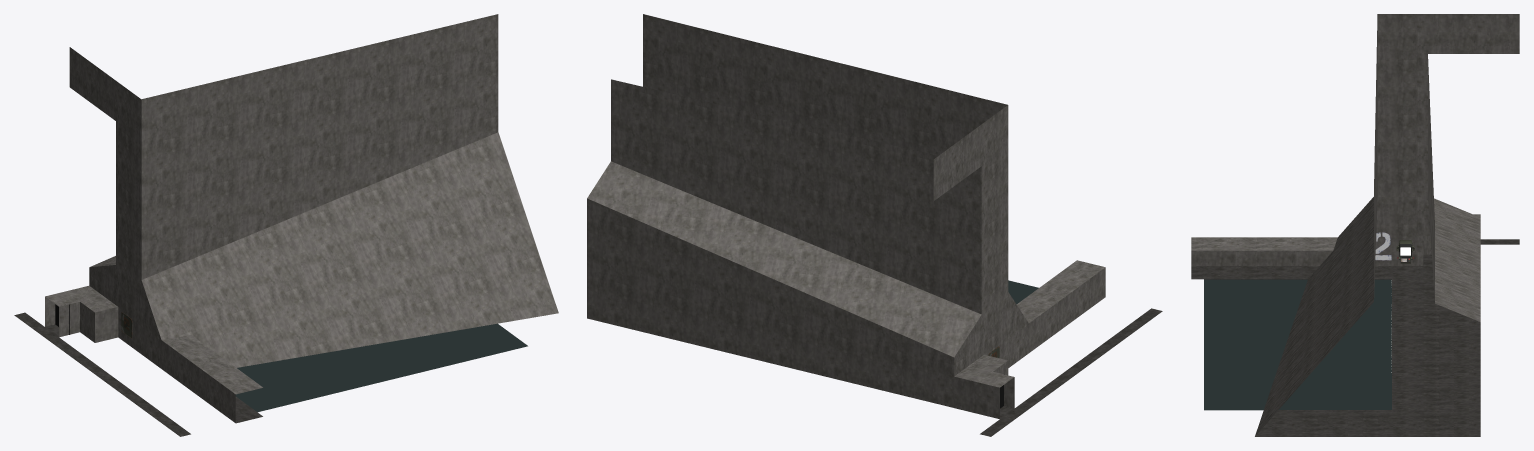
File: gallery.glb
3 renders of one model, left to right at view 1: azimuth 30°, elevation 25°; view 2: azimuth 150°, elevation 25°; view 3: azimuth 270°, elevation 25°, orthographic. The views are drawn at different scales.
Parts seen in each view (by area): view 1: Gallery; view 2: Gallery; view 3: Gallery, Terminal.
Boxes of the visible parts, <box> form: Gallery: <box>14,14,558,436</box>; Gallery: <box>587,14,1162,436</box>; Gallery: <box>1191,14,1519,436</box>; Terminal: <box>1396,240,1414,263</box>.
Bounding box in the file's own units: 37.06 × 22.4 × 26.
11 materials, 6 textured.
